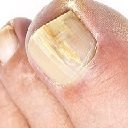Nail Fungal Infection: (35, 12, 100, 69)
